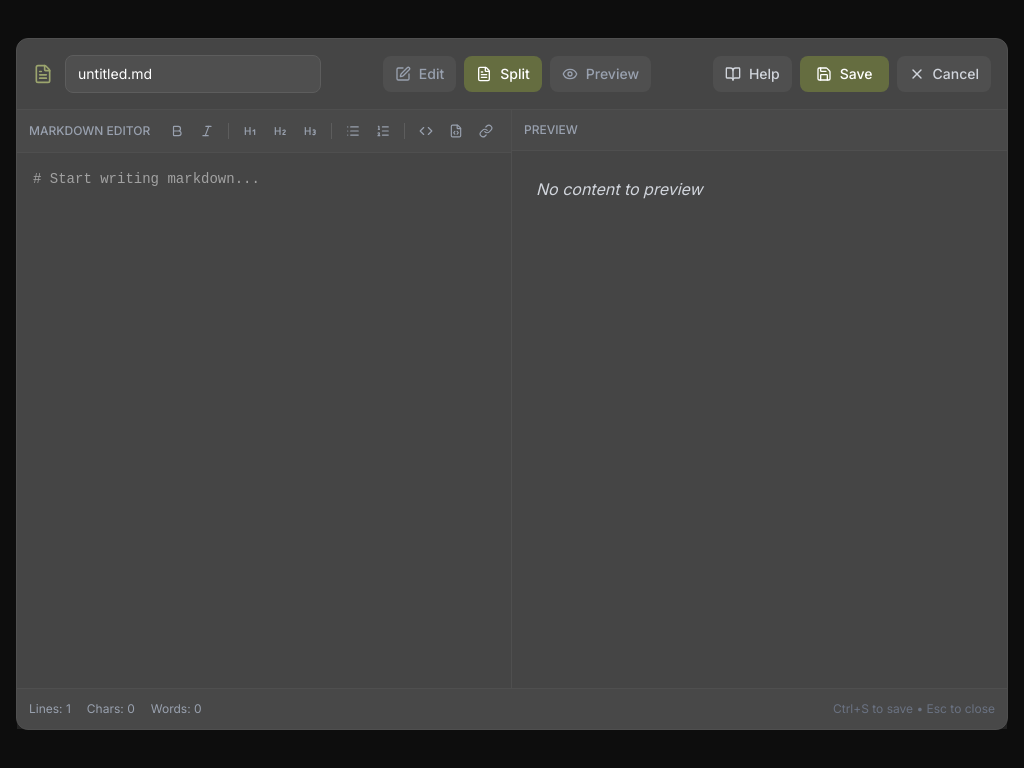
it: MarkdownEditor › Help Manual › opens help manual
The width and height of the screenshot is (1024, 768).
Click the button "Help" at (752, 74), box top-left (713, 56), bottom-right (792, 92)
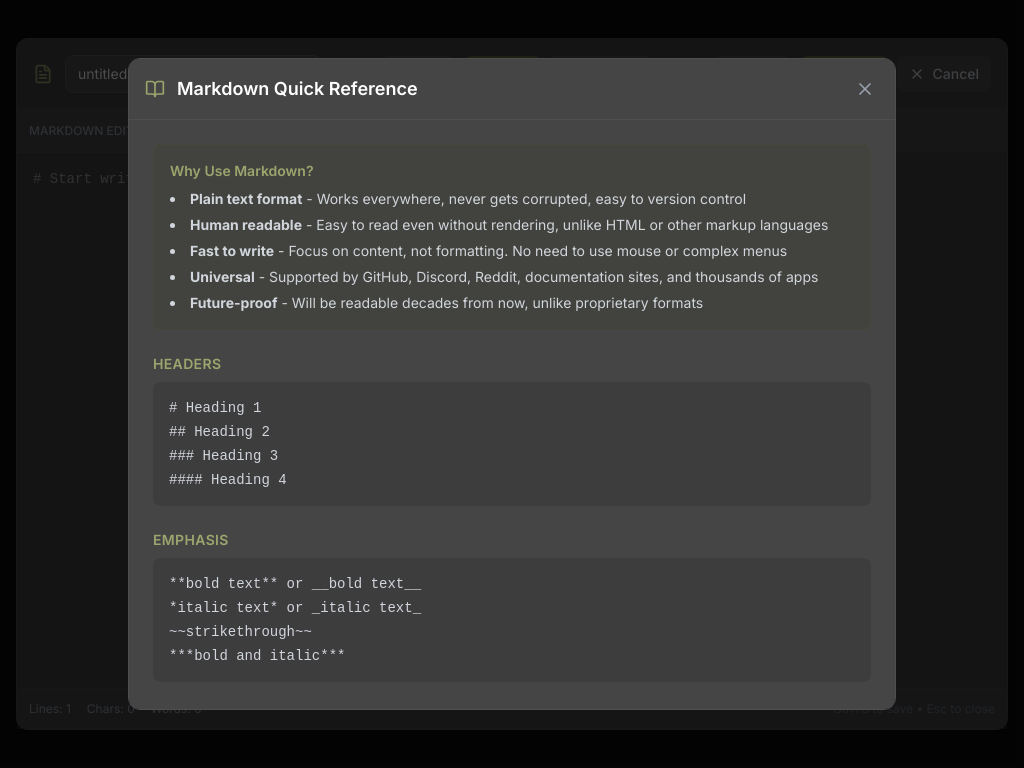
Result: the heading "Markdown Quick Reference" is shown at top-left (177, 75), bottom-right (418, 103)
